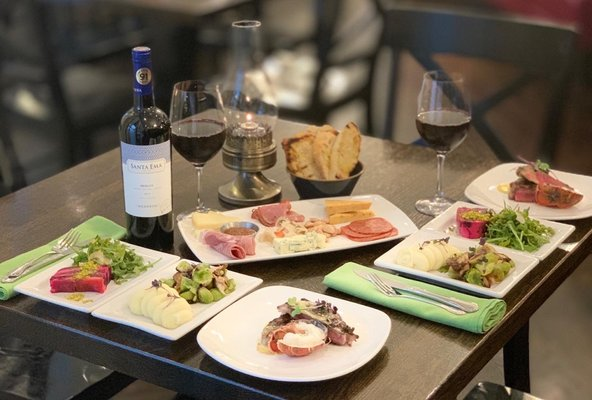burger: (345, 262, 477, 316)
sushi: (280, 124, 364, 198), (283, 162, 364, 198)
